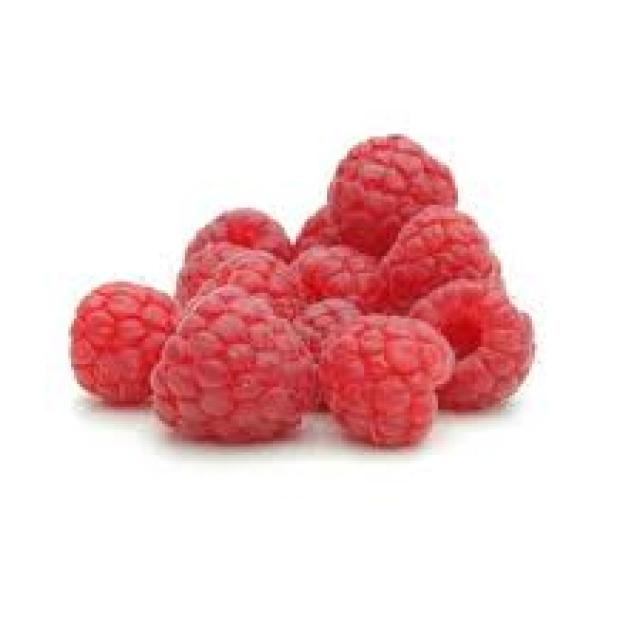raspberry: (60, 125, 563, 455)
